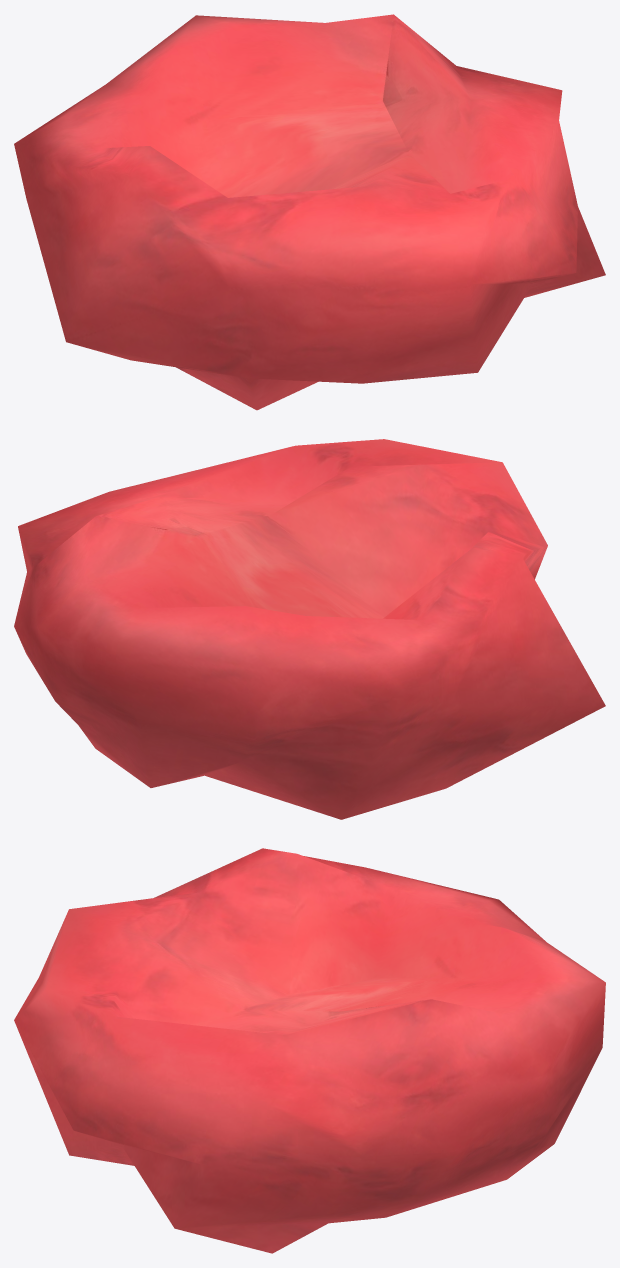
The model's file is Schistocyte_full.glb.
3 renders of one model, top to bottom at view 1: azimuth 30°, elevation 25°; view 2: azimuth 150°, elevation 25°; view 3: azimuth 270°, elevation 25°, orthographic.
Parts seen in each view (by area): view 1: ShistozytFull_low; view 2: ShistozytFull_low; view 3: ShistozytFull_low.
Boxes of the visible parts, left/top/right/bottom form: ShistozytFull_low: left=14, top=14, right=605, bottom=410; ShistozytFull_low: left=14, top=439, right=605, bottom=819; ShistozytFull_low: left=14, top=848, right=605, bottom=1253.
Bounding box in the file's own units: 0.2558 × 0.1072 × 0.24.
1 material, 1 textured.
